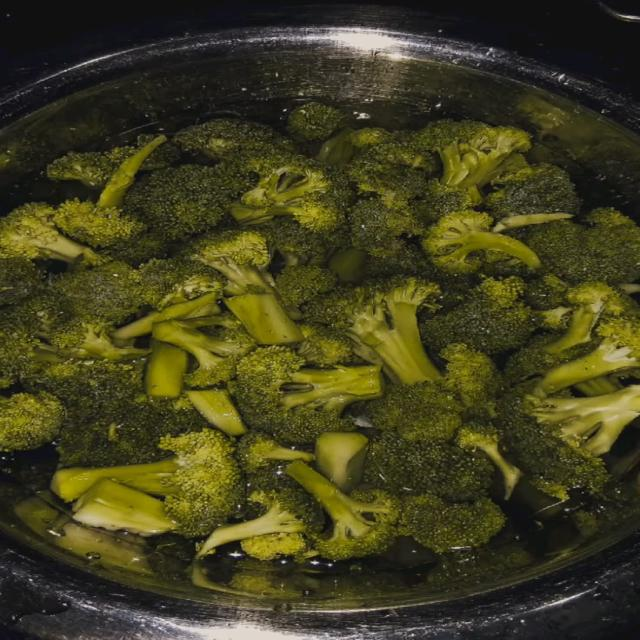broccoli: (52, 429, 243, 537), (234, 347, 383, 444), (306, 277, 441, 384), (188, 229, 302, 344), (496, 386, 610, 493), (14, 492, 153, 575), (286, 461, 399, 560), (56, 396, 207, 466), (231, 155, 353, 233), (415, 120, 530, 201), (421, 276, 537, 355), (125, 163, 246, 238), (197, 487, 323, 559), (364, 432, 493, 500), (524, 209, 639, 284), (534, 317, 639, 397), (421, 210, 541, 273), (533, 385, 639, 455), (153, 320, 254, 387), (427, 528, 533, 591), (542, 282, 635, 353), (400, 493, 506, 552), (364, 382, 464, 444), (355, 241, 458, 301), (0, 203, 101, 264), (484, 164, 580, 228), (73, 478, 177, 535), (50, 262, 144, 324), (47, 135, 155, 187), (113, 291, 220, 341), (97, 135, 166, 208), (456, 423, 521, 499), (174, 119, 293, 159), (503, 334, 592, 386), (348, 196, 421, 258), (54, 199, 146, 248), (345, 147, 429, 200), (139, 258, 224, 310), (440, 343, 501, 414), (47, 319, 149, 360), (260, 217, 341, 266), (225, 293, 302, 344), (0, 392, 64, 451), (47, 148, 131, 187), (315, 432, 368, 492), (237, 432, 314, 473), (364, 132, 438, 174), (186, 389, 247, 437), (275, 265, 337, 309), (414, 180, 473, 226), (101, 230, 173, 266), (298, 324, 359, 366), (145, 339, 188, 398), (287, 103, 348, 141), (240, 532, 316, 561), (0, 257, 43, 307), (525, 274, 569, 311), (316, 127, 355, 166), (327, 247, 369, 283), (574, 376, 624, 397), (350, 127, 393, 148)
